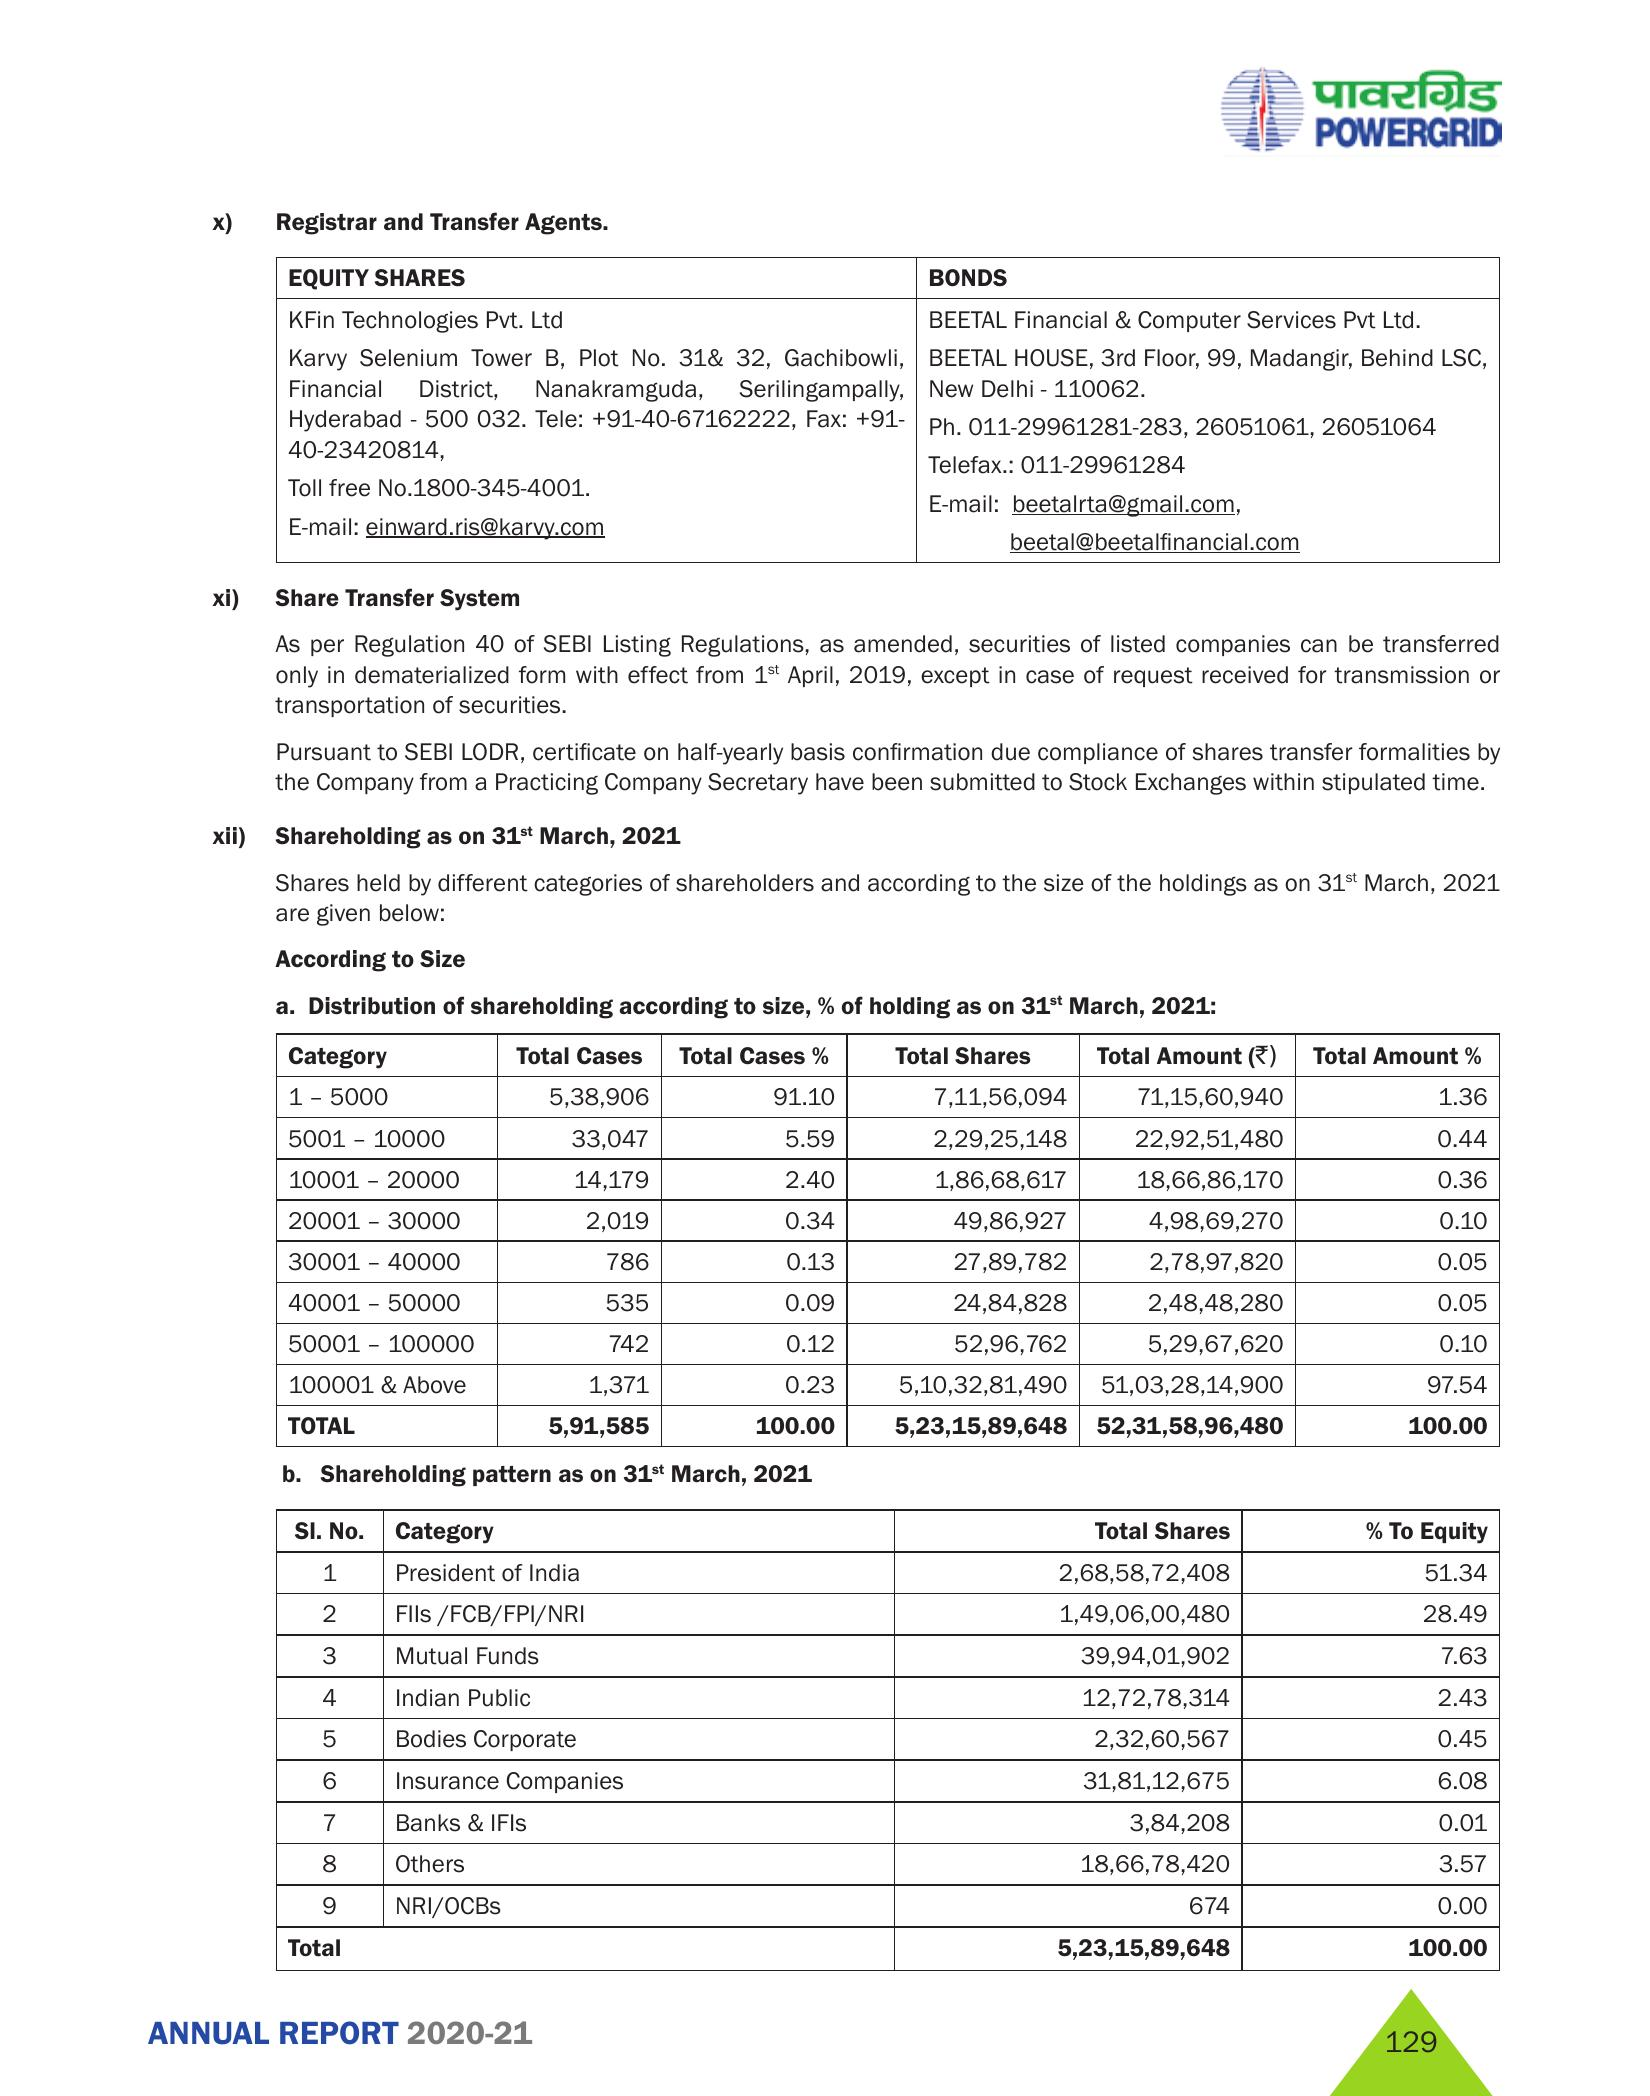Footer: (0, 1979, 1650, 2096)
Header: (0, 0, 1650, 180)
Table: (175, 1490, 1533, 1991), (201, 1009, 1551, 1450), (245, 257, 1577, 592)
